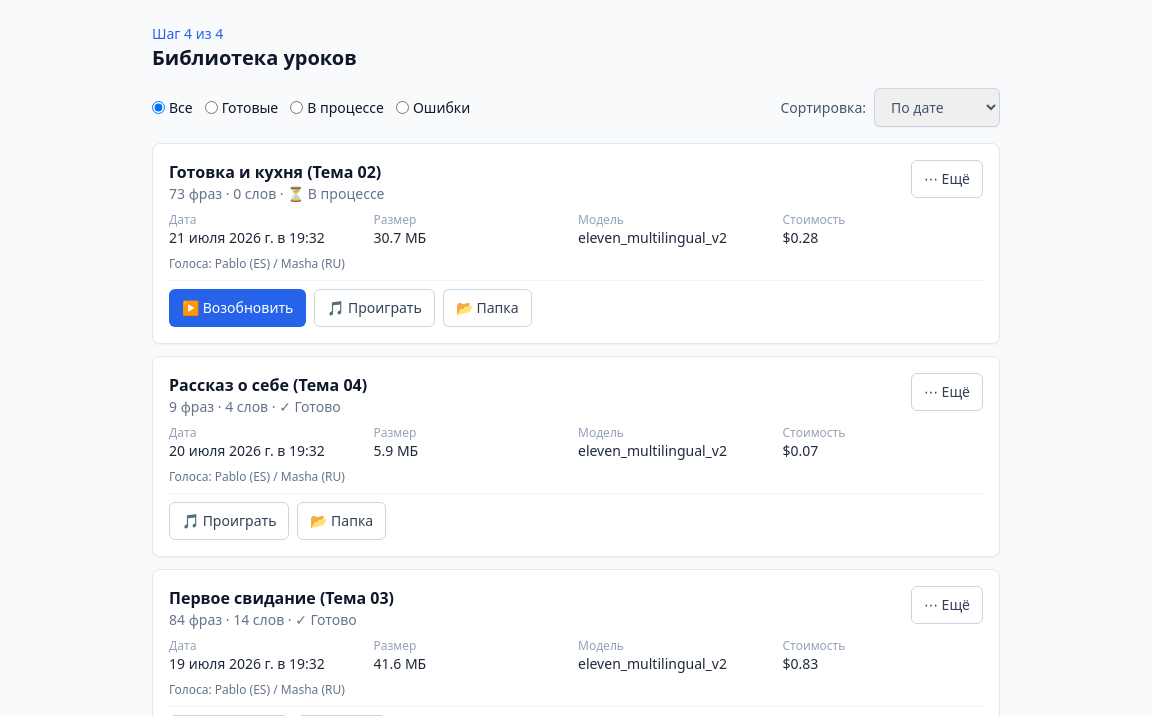
Test: LibraryScreen (смоук, mockAdapter) › фильтр «Готовые» скрывает урок в процессе
Check: the heading "Готовка и кухня (Тема 02)" is shown, box top-left (169, 160), bottom-right (384, 184)
Click the radio button labelled "Готовые". click: (211, 108)
box: top-left (205, 101), bottom-right (218, 114)
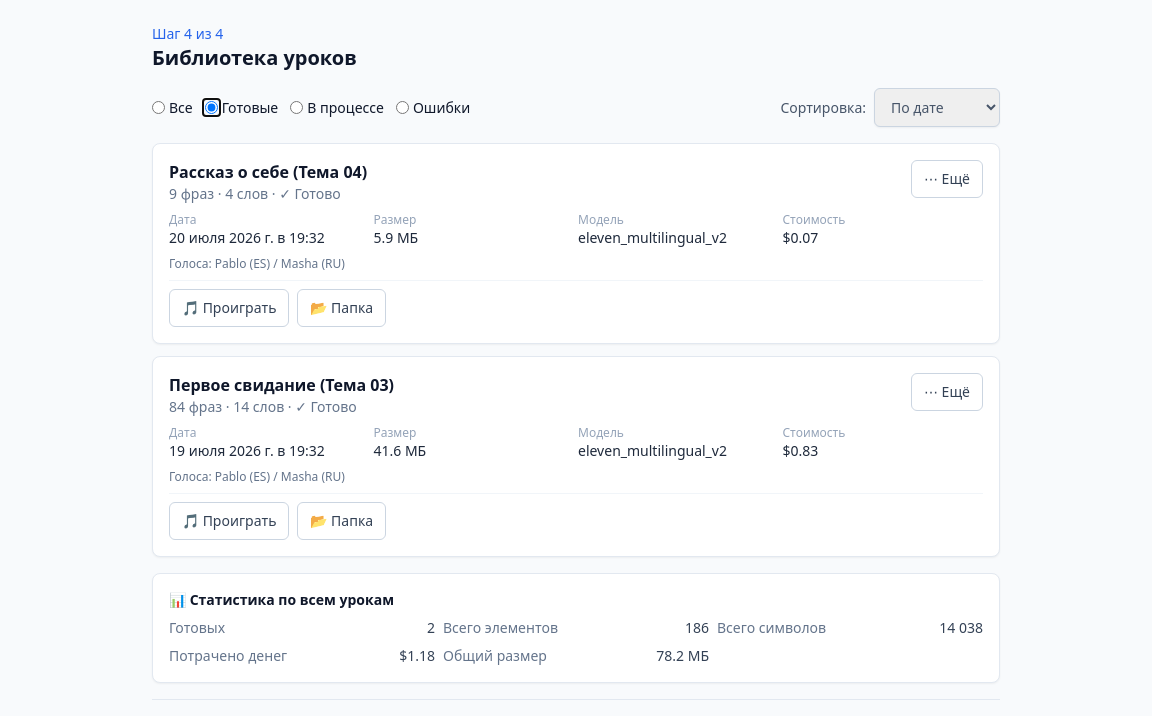
Check: the heading "Рассказ о себе (Тема 04)" is shown, box top-left (169, 160), bottom-right (367, 184)
Check: the heading "Готовка и кухня" is gone
